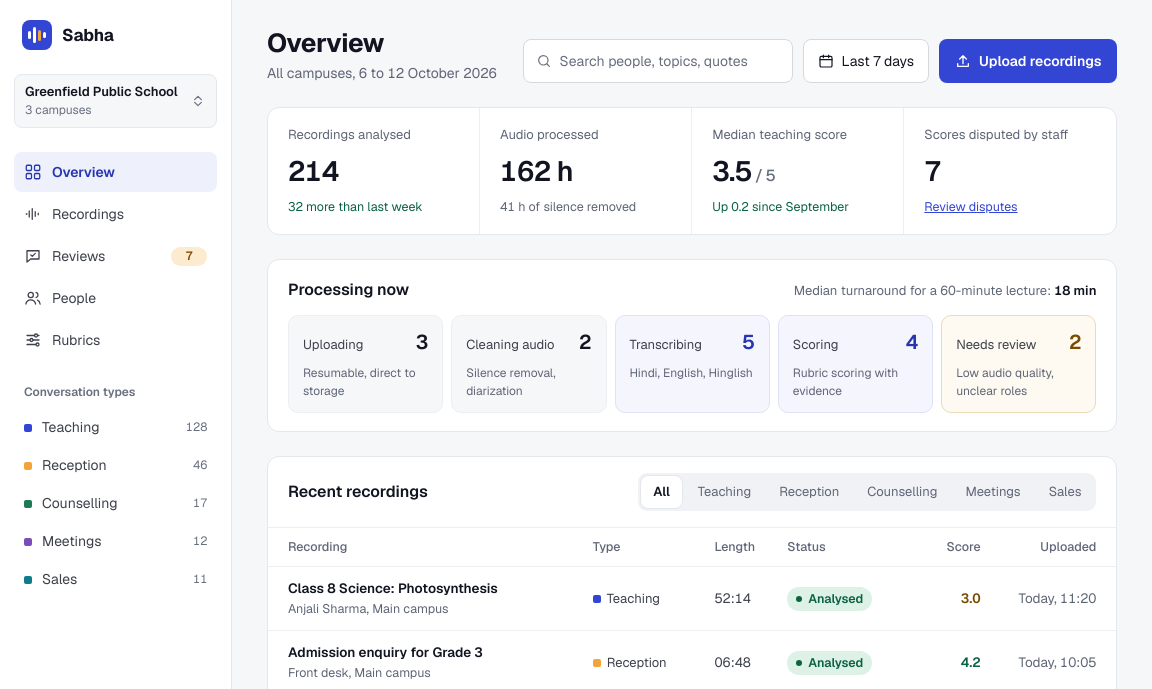
Test case: OverviewSpike › filters the table by conversation type
What coordinates should you click on to do the following:
click the button "Teaching"
I would click on:
 (724, 492)
Its box is [686,476,763,508].
(page scrolled)
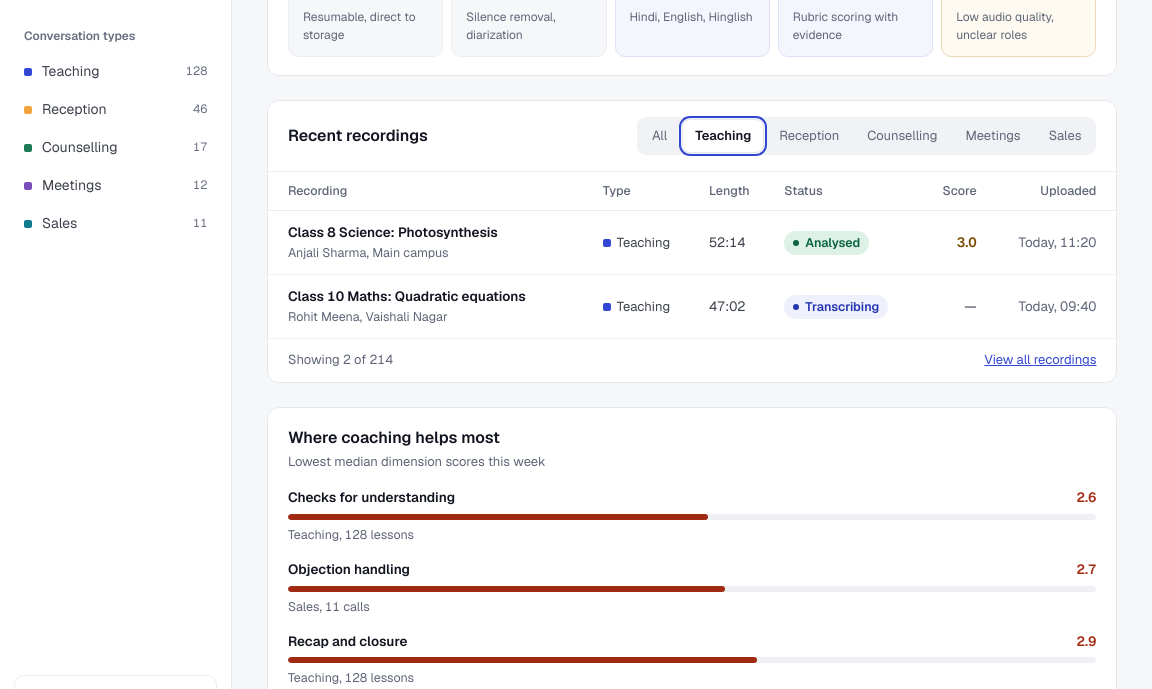
expect the text "Showing 2 of 214" is shown: met, box [288,351,393,370]
